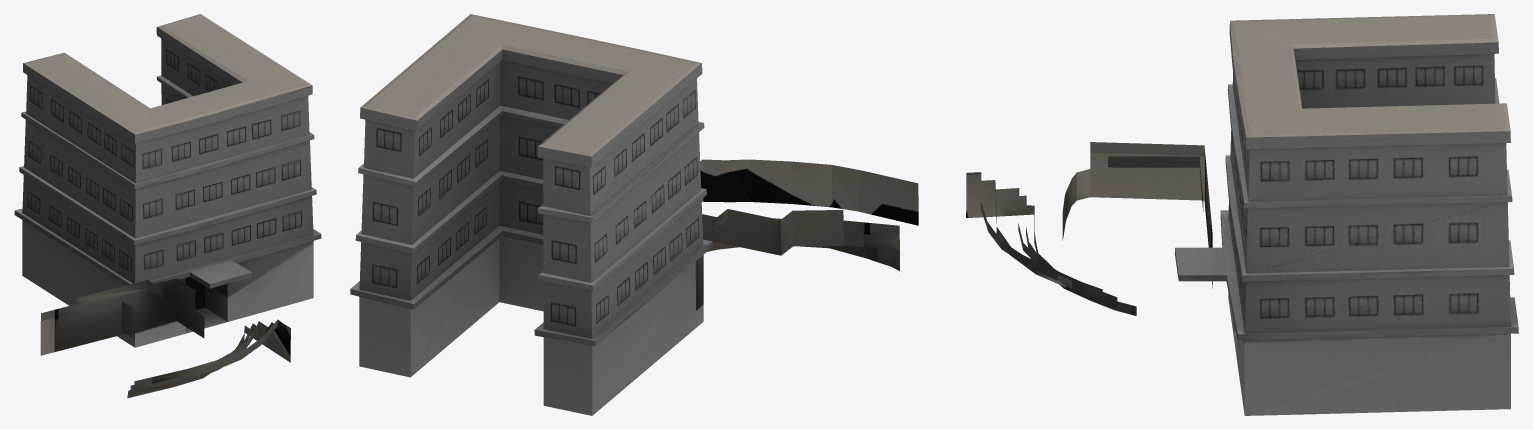
Rendered from bakul.glb.
3 views of the same model, side by side, from view 1: azimuth 30°, elevation 25°; view 2: azimuth 150°, elevation 25°; view 3: azimuth 270°, elevation 25° (orthographic). The views are drawn at different scales.
Parts seen in each view (by area): view 1: maposm_buildings003; view 2: maposm_buildings003; view 3: maposm_buildings003.
Boxes of the visible parts, bbox=[...] form: maposm_buildings003: bbox=[14, 14, 321, 398]; maposm_buildings003: bbox=[350, 14, 918, 415]; maposm_buildings003: bbox=[966, 14, 1518, 415].
Size of the model in its own units: 12.65 by 8.62 by 15.52.
Materials: 2 (2 with a texture image).
